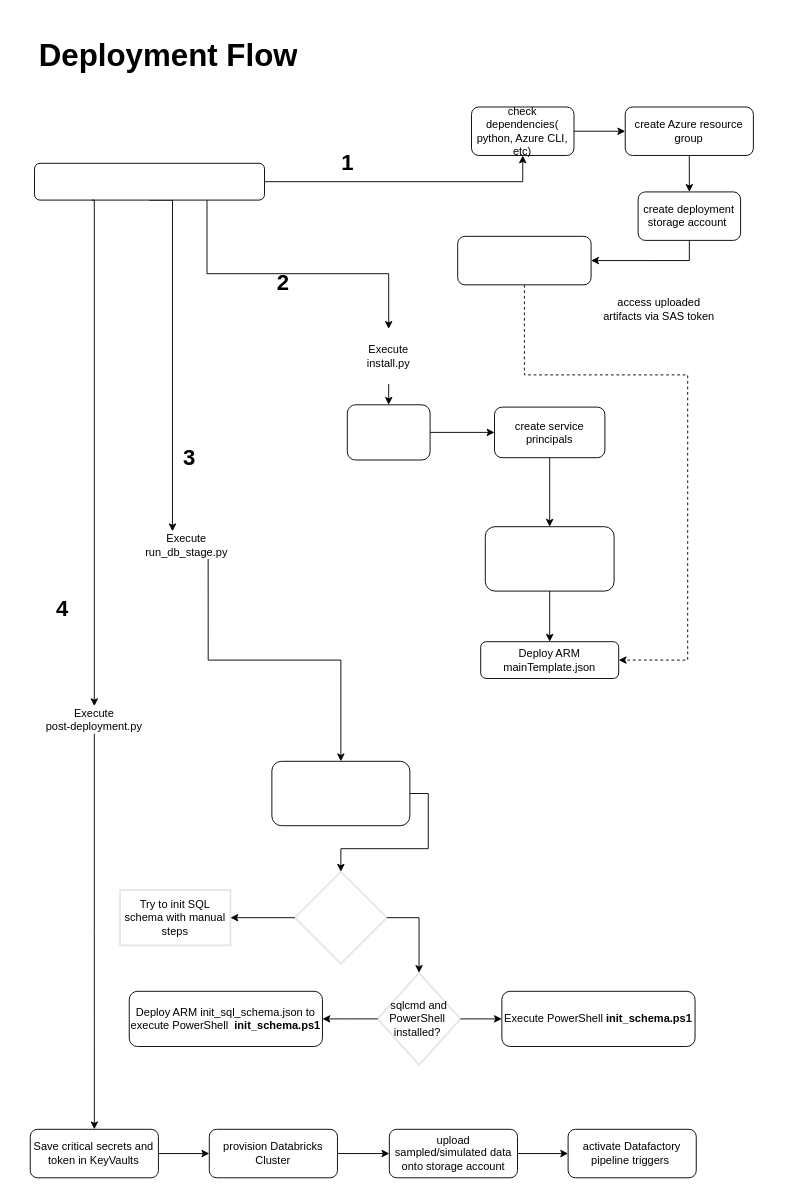
The diagram is 786 pixels wide and 1194 high, and some of its shapes have lost their labels. Here are the shapes that lost their labels. From the top down, the centre of each, then its label:
At [149,181]: "install.sh".
At [524,260]: "upload ARM template and app artifacts into storage account".
At [388,432]: "Prompt parameters".
At [549,558]: "Build parameters.json for ARM template".
At [340,793]: "build custom-init.sql with contained users and permisson grants".
At [340,917]: "SQL Password enabled?".
